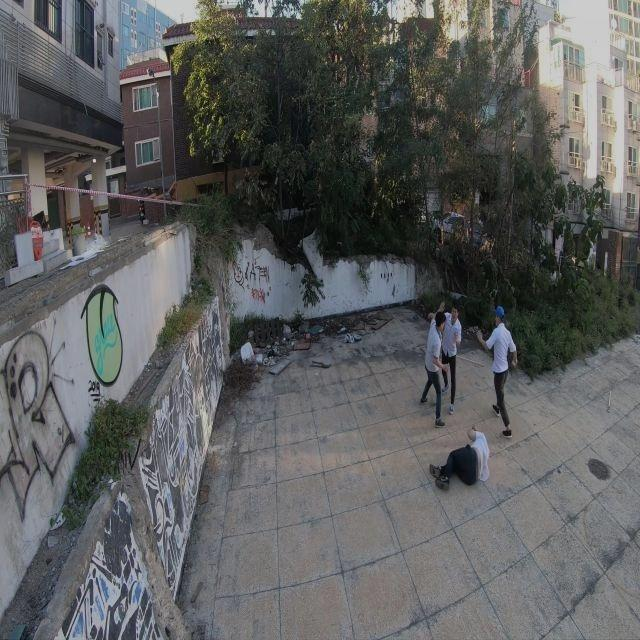fight: (420, 305, 460, 424)
non-fight: (478, 306, 516, 437), (427, 426, 491, 488)
